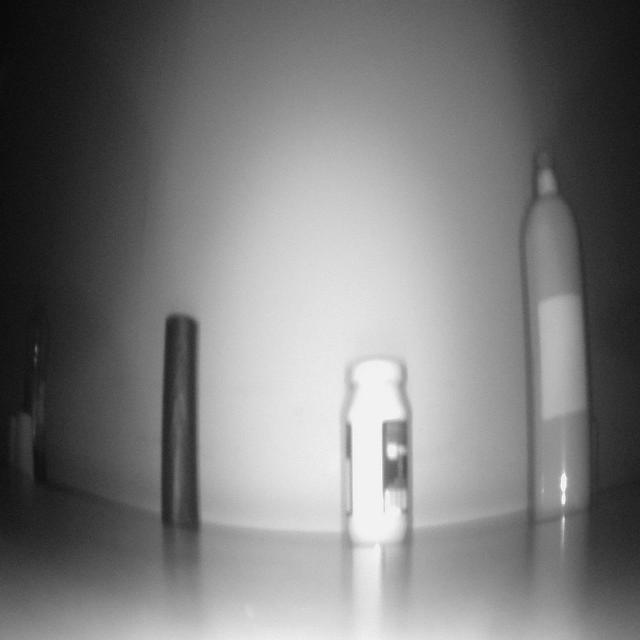targets: (524, 146, 586, 532), (343, 357, 414, 547), (161, 311, 199, 529), (21, 296, 52, 468), (6, 412, 36, 478)
